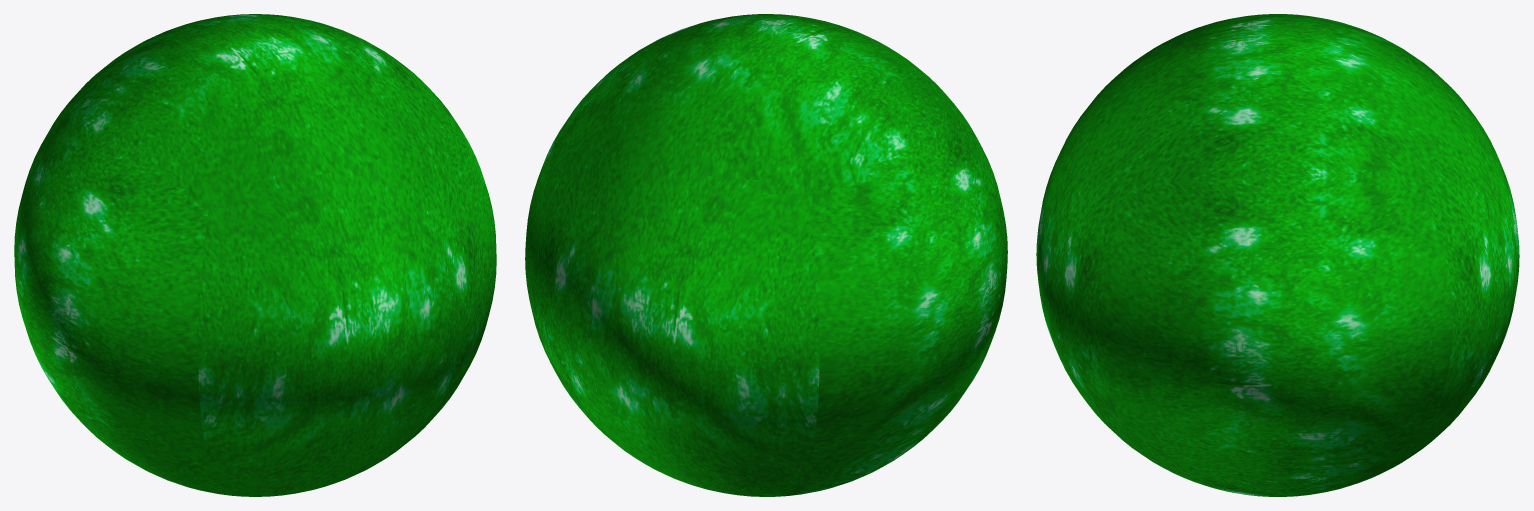
Rendered from planet_sun.fbx.
The picture shows the model from 3 angles, left to right: view 1: azimuth 30°, elevation 25°; view 2: azimuth 150°, elevation 25°; view 3: azimuth 270°, elevation 25°; orthographic projection.
Parts seen in each view (by area): view 1: moon; view 2: moon; view 3: moon.
Part boxes in pixels (x1,y1,x2,y2): moon: (14,14,496,496); moon: (525,14,1007,496); moon: (1036,14,1519,496).
Size of the model in its own units: 753 by 754 by 754.
